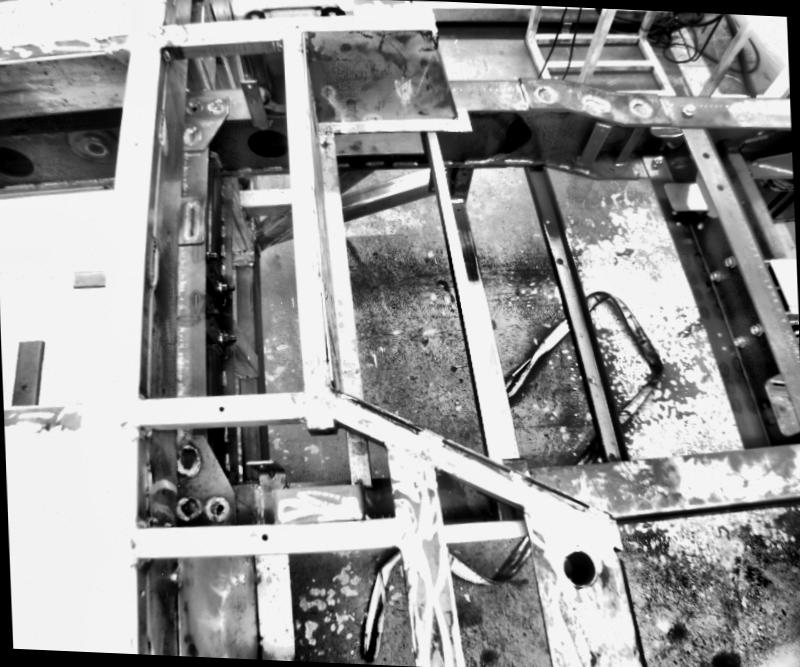bolt: (216, 331, 236, 344), (218, 280, 236, 294), (203, 248, 218, 264), (682, 99, 696, 116), (648, 154, 664, 168), (748, 320, 762, 336), (708, 269, 722, 282), (732, 334, 744, 346), (724, 256, 735, 268)
bracket: (243, 452, 297, 528), (658, 171, 709, 227), (758, 370, 799, 439), (9, 337, 46, 410), (236, 74, 274, 132), (65, 262, 107, 290)
hole: (558, 547, 598, 587), (0, 142, 33, 181), (83, 137, 107, 155), (214, 402, 226, 414), (18, 380, 30, 391), (258, 531, 269, 542), (588, 373, 596, 384), (720, 343, 728, 352), (606, 449, 614, 458), (215, 504, 223, 512), (554, 256, 562, 264), (702, 151, 710, 158), (542, 217, 550, 224), (716, 184, 722, 190), (715, 331, 721, 336), (133, 140, 137, 144), (247, 84, 252, 87), (456, 207, 458, 211)
